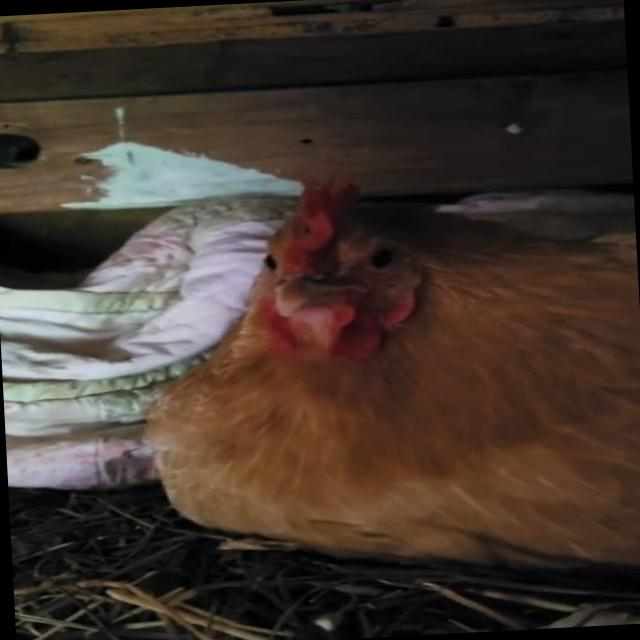menacing: (153, 167, 640, 604)
